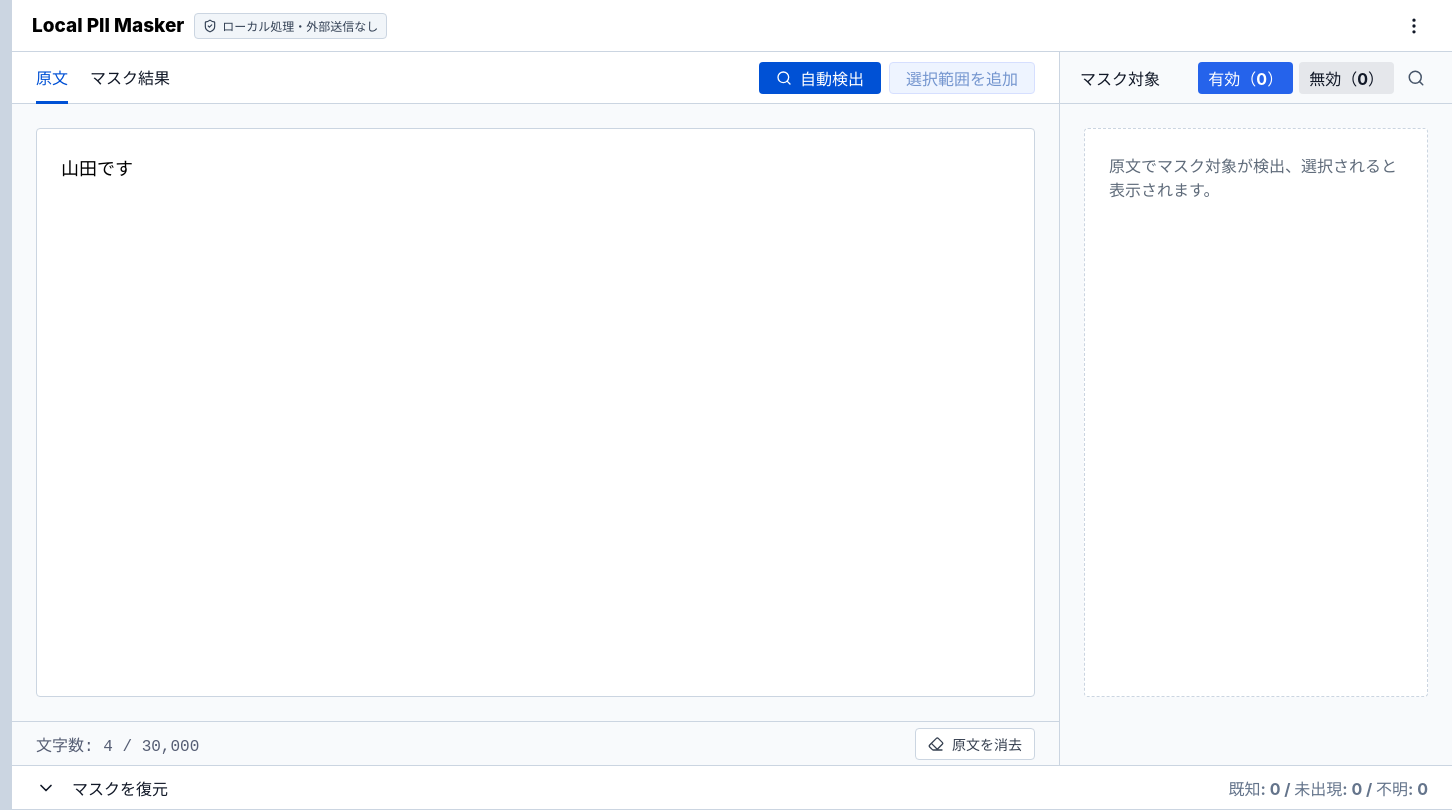
Test case: App › ヘッダーメニューはEscで閉じて起点へフォーカスを戻す
The image size is (1452, 810).
Click the button named "メニュー" at [1414, 26], box [1396, 8, 1432, 44]
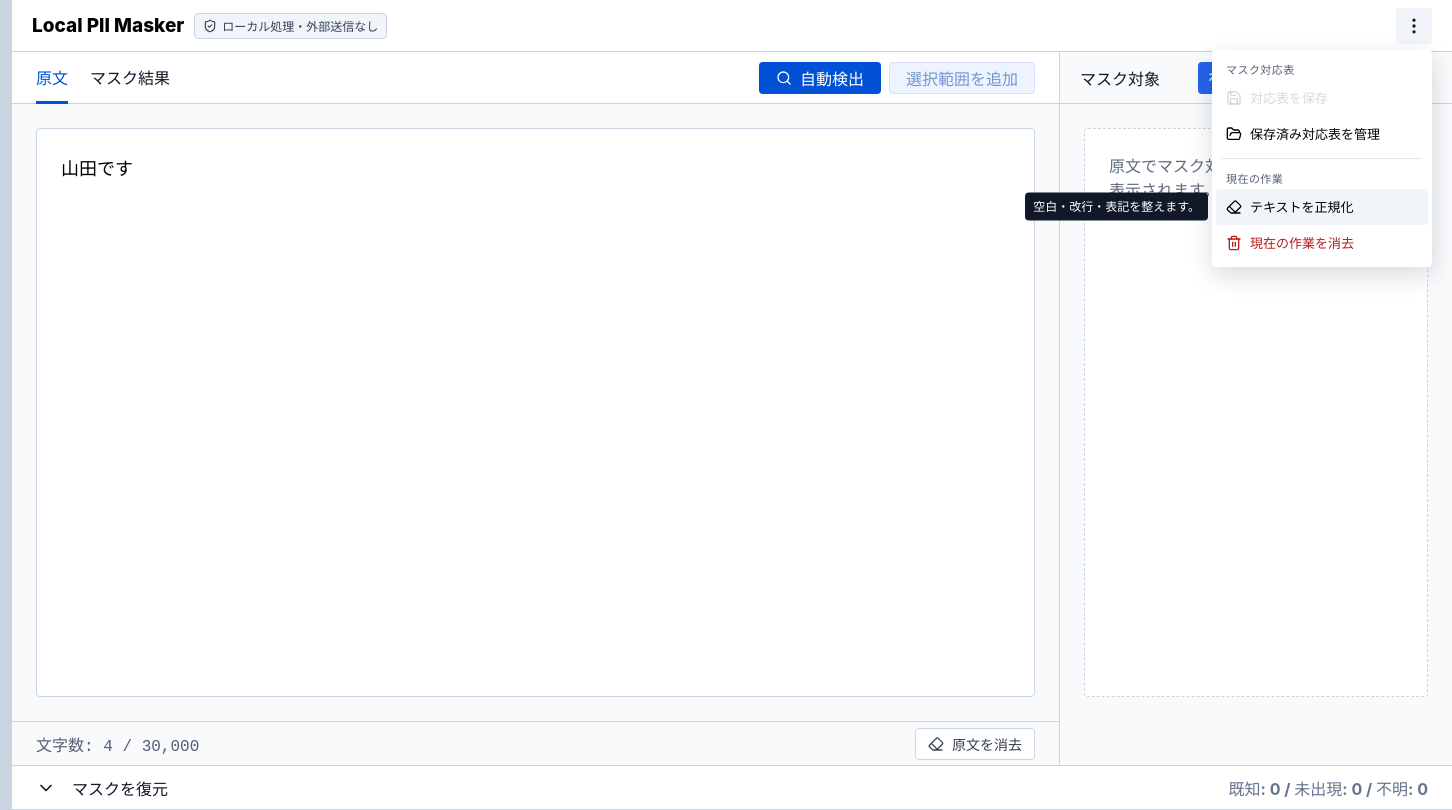
Check: the tooltip with id "normalization-menu-tooltip" reads "空白・改行・表記を整えます。", box [1033, 198, 1200, 213]
Press Escape
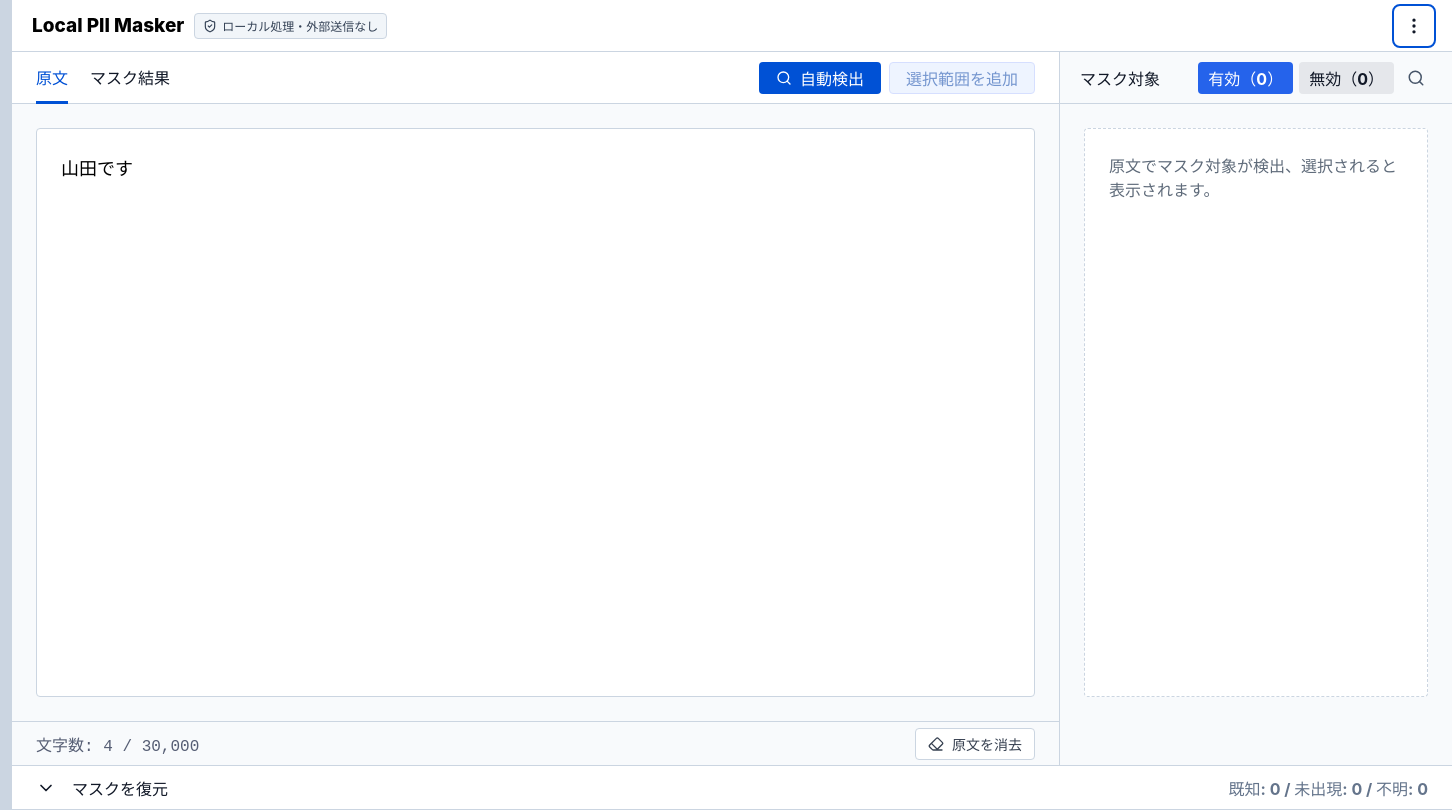
Check: the menu is gone
